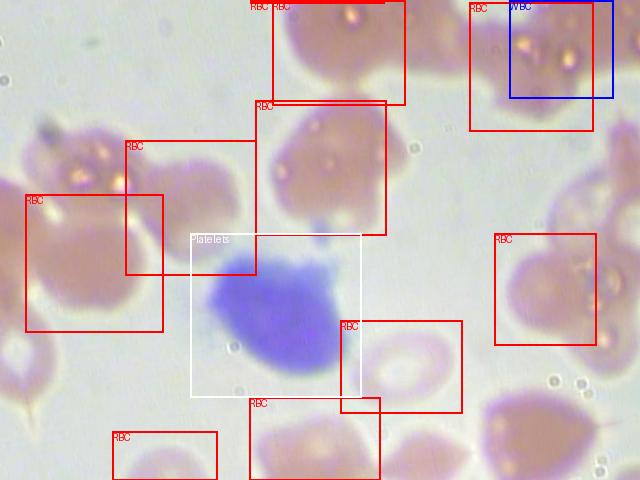Platelets: (190, 233, 361, 397)
RBC: (25, 194, 163, 332), (125, 140, 256, 275), (255, 100, 386, 235), (469, 2, 593, 131), (272, 0, 405, 105), (494, 233, 596, 345), (340, 320, 462, 413), (249, 397, 380, 480), (112, 431, 217, 480), (250, 0, 384, 3)
WBC: (509, 0, 613, 98)
